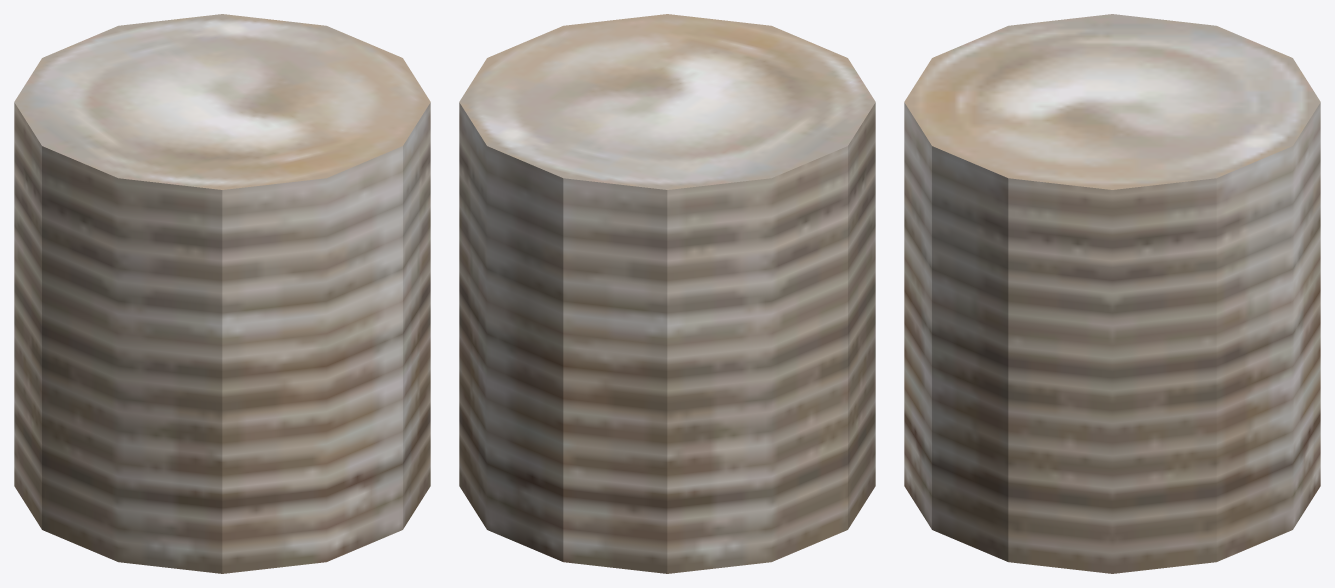
Rendered from platestacktall.fbx.
3 views of the same model, side by side, from view 1: azimuth 30°, elevation 25°; view 2: azimuth 150°, elevation 25°; view 3: azimuth 270°, elevation 25° (orthographic).
Visible parts, largest first — view 1: mesh_0; view 2: mesh_0; view 3: mesh_0.
Boxes of the visible parts, box(x1,y1,x2,y2) form: mesh_0: box(14, 14, 430, 573); mesh_0: box(459, 14, 875, 573); mesh_0: box(904, 14, 1320, 573).
Size of the model in its own units: 36.83 by 40.11 by 36.83.
Materials: 1 (1 with a texture image).
